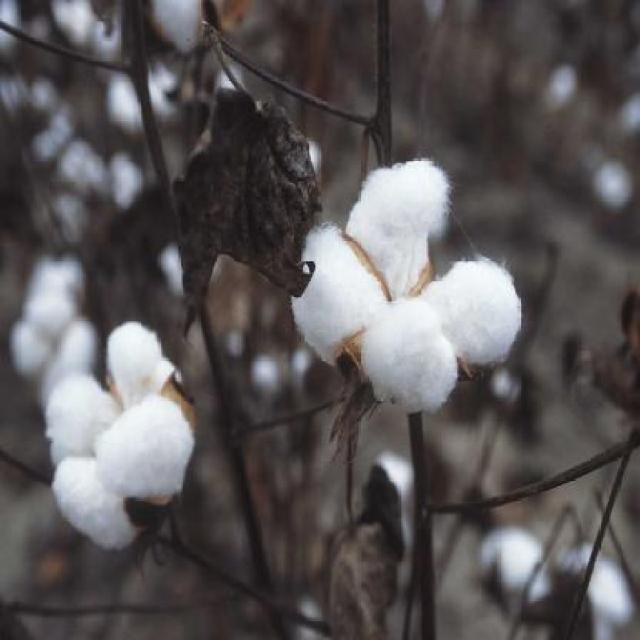cotton_ready: (279, 151, 521, 472), (20, 307, 200, 573)
